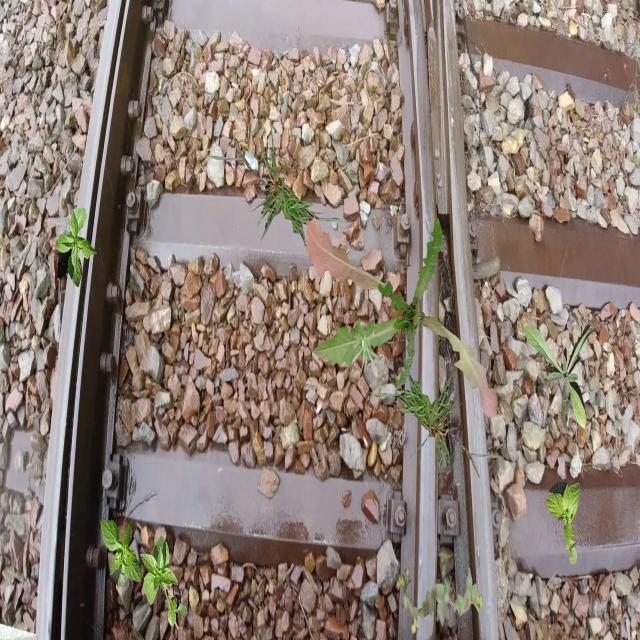Plant: (305, 216, 498, 418), (210, 125, 354, 245), (360, 370, 503, 490), (524, 323, 596, 431), (397, 565, 484, 634), (140, 535, 188, 630), (56, 208, 98, 288), (100, 518, 142, 589), (545, 481, 580, 564), (351, 328, 384, 374)
